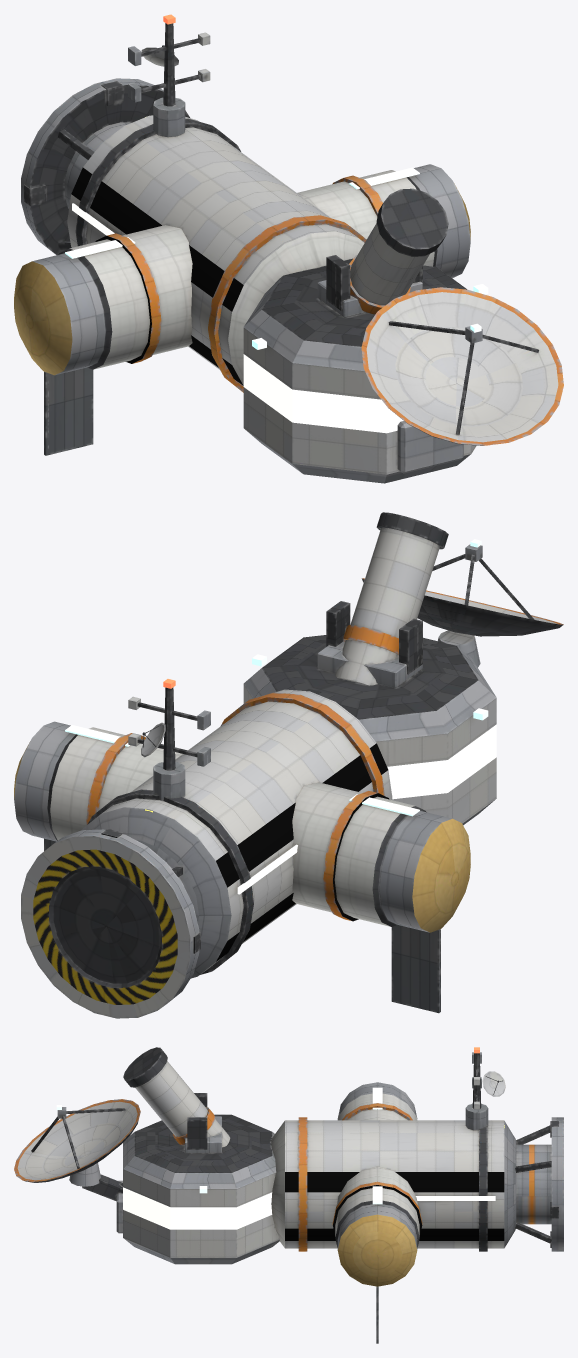
File: addon_science.glb
3 renders of one model, top to bottom at view 1: azimuth 30°, elevation 25°; view 2: azimuth 150°, elevation 25°; view 3: azimuth 270°, elevation 25°, orthographic. The views are drawn at different scales.
Parts seen in each view (by area): view 1: addon_science_hull, addon_science_lights; view 2: addon_science_hull, addon_science_lights; view 3: addon_science_hull, addon_science_lights.
Part boxes in pixels (bbox=[...]): addon_science_hull: bbox=[14, 23, 563, 483]; addon_science_lights: bbox=[65, 14, 488, 349]; addon_science_hull: bbox=[14, 512, 563, 1018]; addon_science_lights: bbox=[65, 539, 488, 894]; addon_science_hull: bbox=[14, 1047, 563, 1343]; addon_science_lights: bbox=[56, 1047, 504, 1204].
Size of the model in its own units: 27 by 20.35 by 44.25.
Materials: 5 (1 with a texture image).
